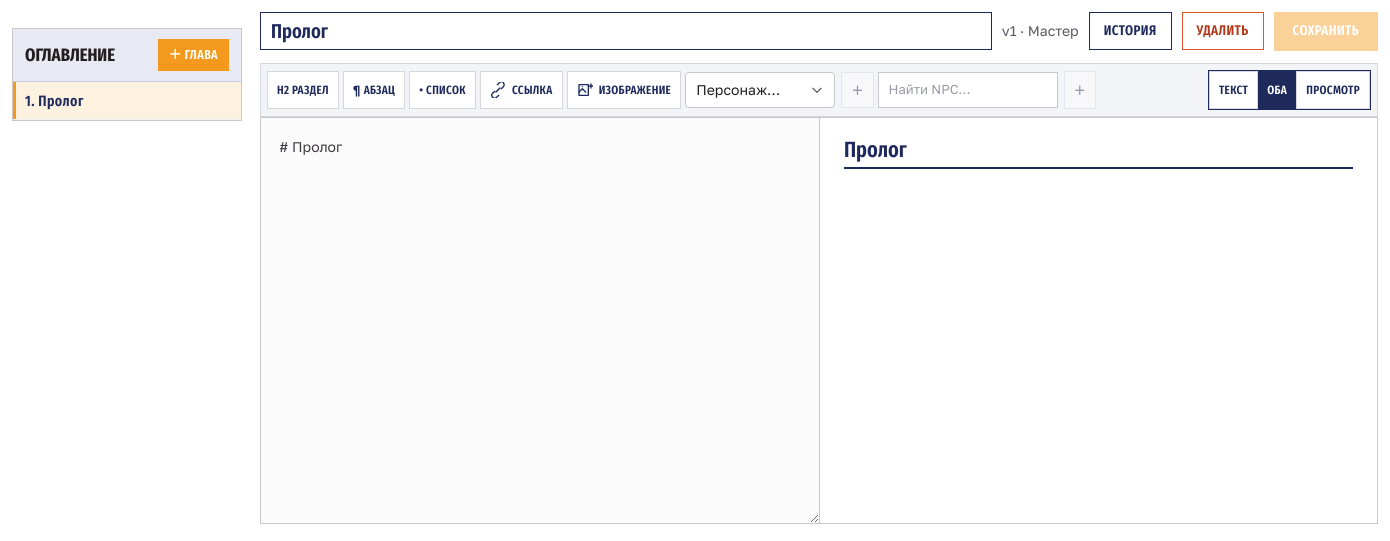
Test: CampaignChronicleTab — links › searches inside the NPC selector
The width and height of the screenshot is (1390, 541).
Focus the dropdown named "NPC для ссылки" at (968, 90), box [878,72,1058,108]
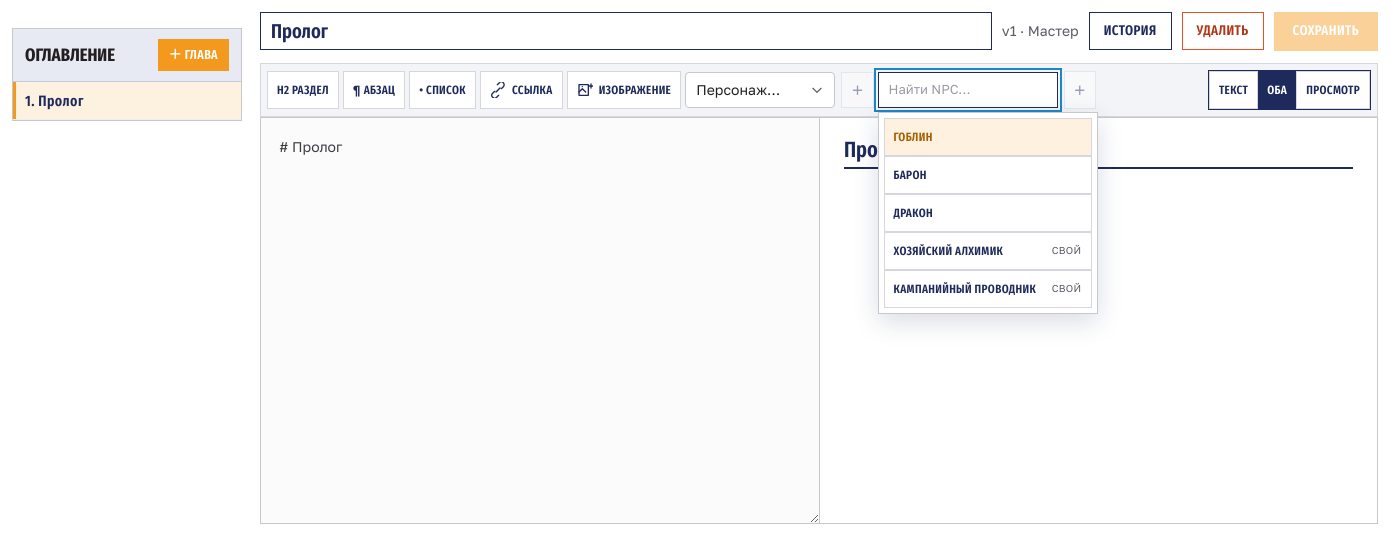
Now the option "Гоблин" is shown, box [884,118,1092,156]
Type "гоб" into the dropdown named "NPC для ссылки".
click(968, 90); type("гоб")  # box [878,72,1058,108]
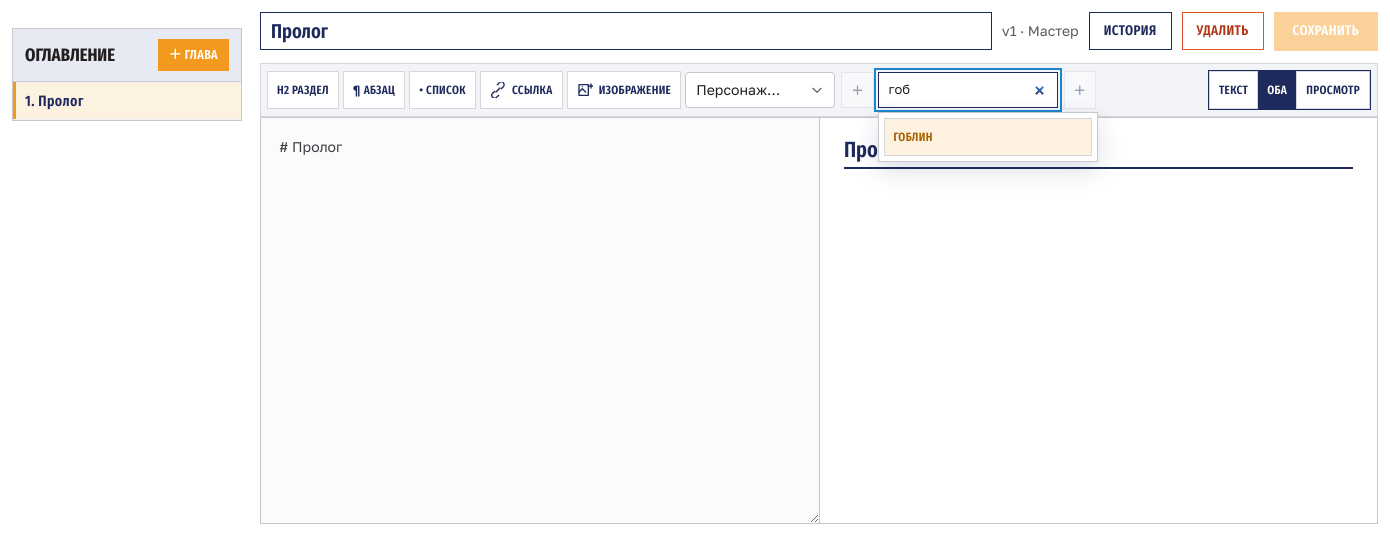
Now the option "Гоблин" is shown, box [884,118,1092,156]
Now the option "Дракон" is gone
